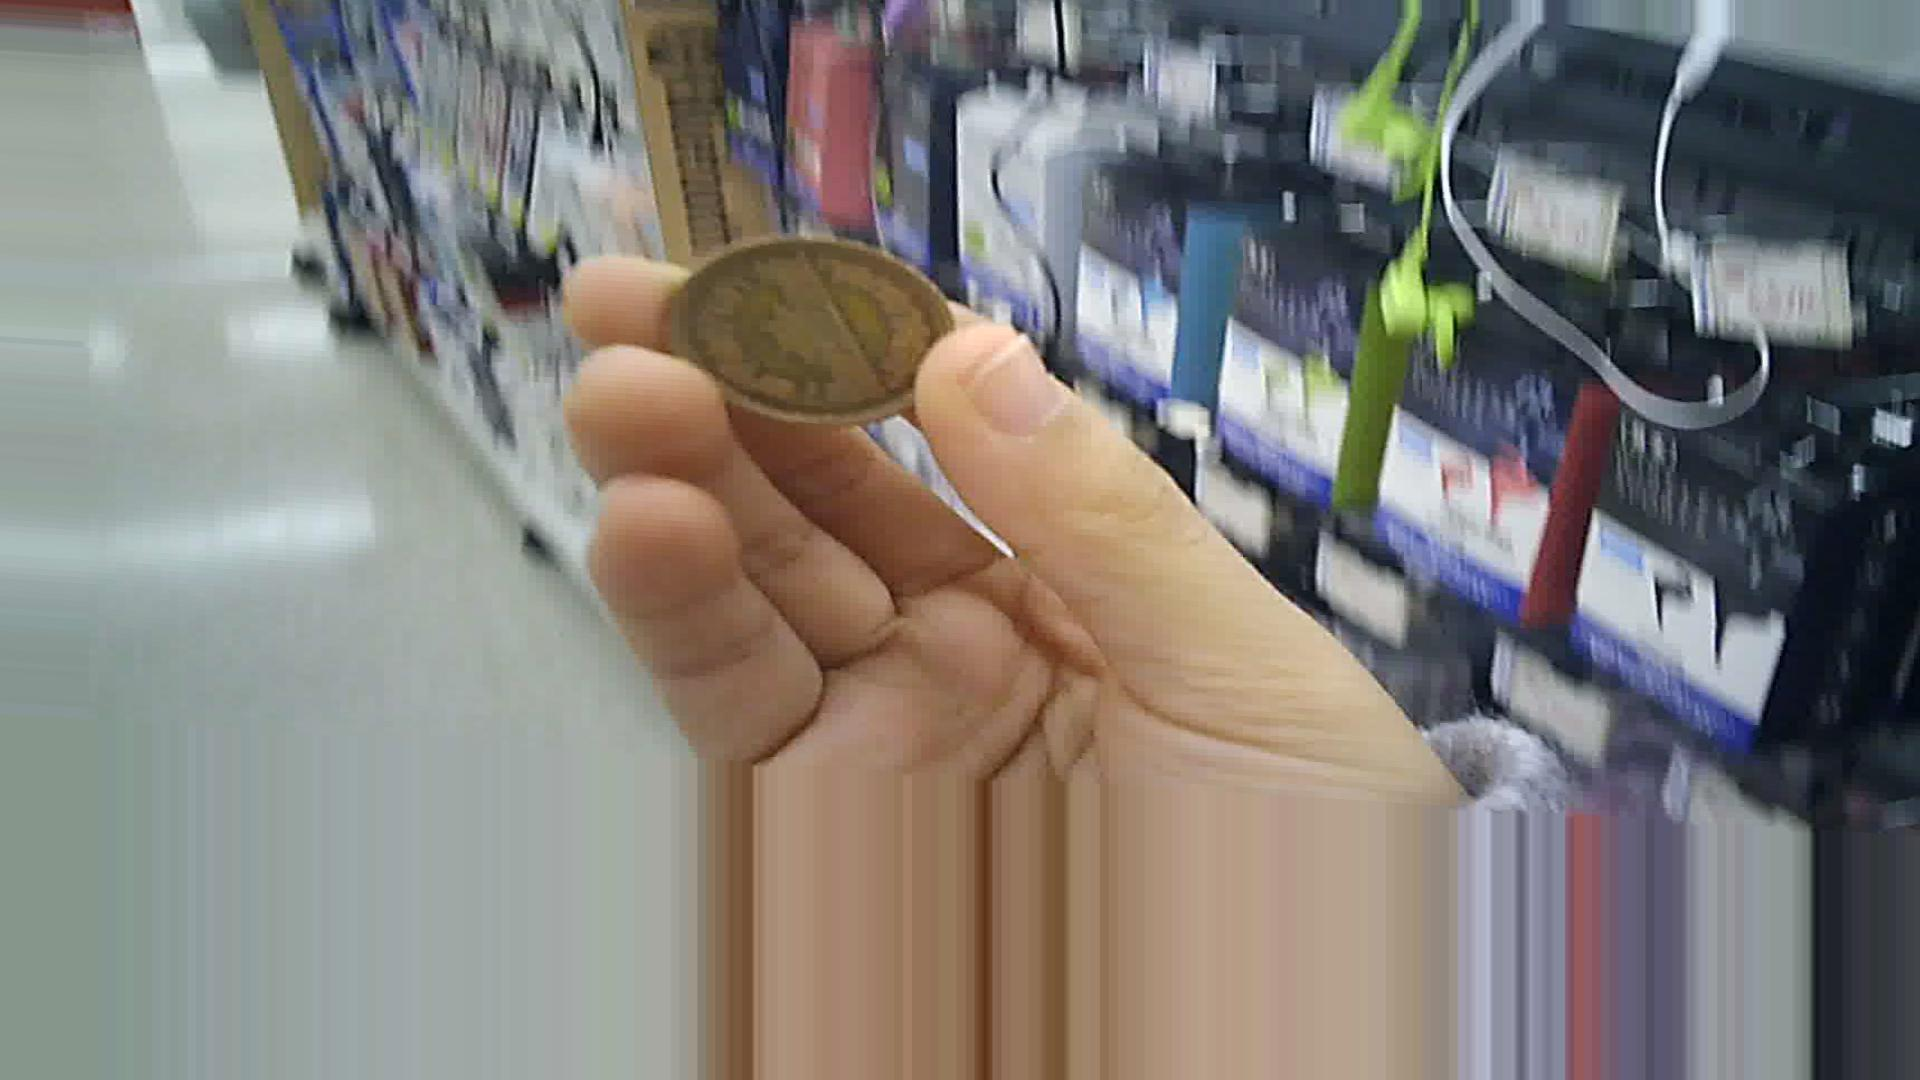10 Yen: (676, 218, 992, 439)
